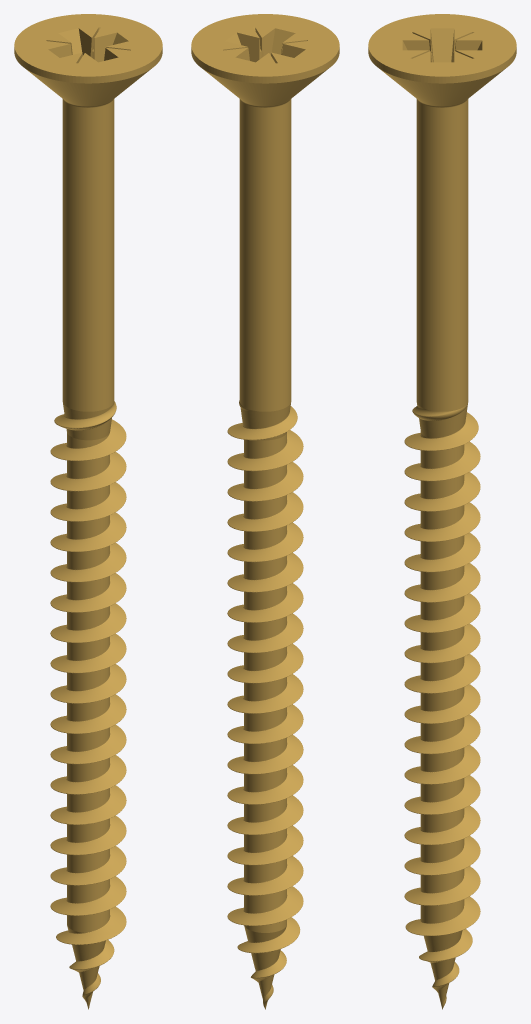
The model's file is model_full.glb.
3 renders of one model, left to right at view 1: azimuth 30°, elevation 25°; view 2: azimuth 150°, elevation 25°; view 3: azimuth 270°, elevation 25°, orthographic.
Parts seen in each view (by area): view 1: geometry_0; view 2: geometry_0; view 3: geometry_0.
Boxes of the visible parts, bbox=[...] form: geometry_0: bbox=[14, 14, 162, 1009]; geometry_0: bbox=[191, 14, 339, 1009]; geometry_0: bbox=[368, 14, 516, 1009].
Bounding box in the file's own units: 0.00975 × 0.07 × 0.00975.
